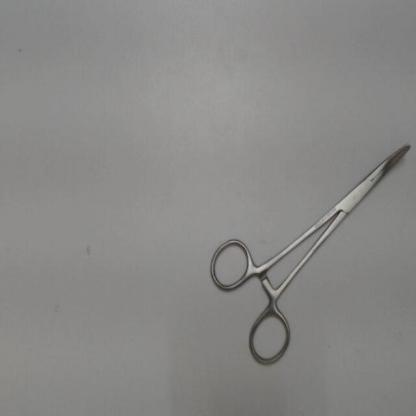Crile Artery Forceps: (204, 135, 415, 373)
